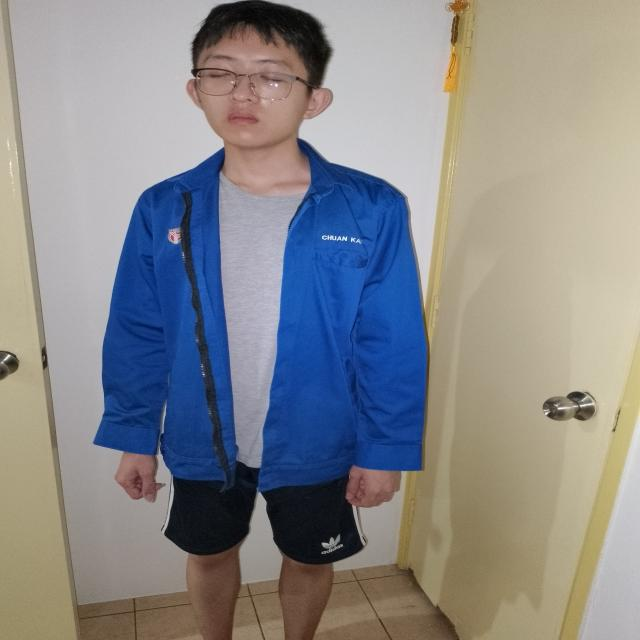person_with_labcoat: (95, 0, 426, 640)
